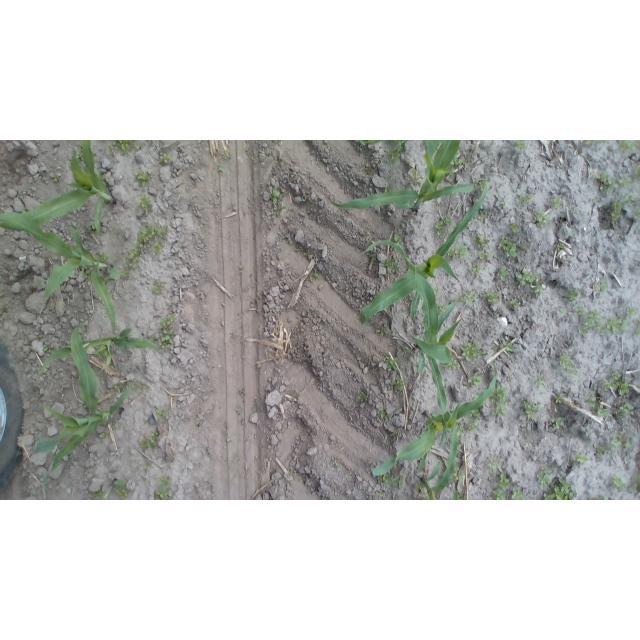Maize: (361, 236, 461, 450), (356, 178, 488, 331), (34, 325, 133, 487), (368, 361, 499, 481), (0, 209, 120, 332), (329, 141, 477, 214), (8, 140, 116, 238), (39, 321, 163, 383), (414, 425, 461, 499), (81, 477, 124, 500)
Weeds: (135, 223, 169, 259), (541, 480, 576, 500), (517, 270, 547, 293), (160, 314, 178, 350), (604, 374, 631, 396), (579, 310, 601, 336), (494, 386, 511, 417), (606, 316, 631, 336), (498, 236, 519, 259), (597, 171, 617, 195), (460, 342, 484, 362), (379, 473, 404, 492), (522, 401, 541, 422), (558, 353, 577, 374), (435, 216, 454, 236), (140, 431, 159, 450), (113, 141, 135, 156), (610, 201, 623, 226), (536, 469, 553, 488), (506, 295, 522, 314), (269, 188, 284, 208), (593, 277, 607, 298), (616, 400, 634, 416), (273, 206, 295, 219), (496, 473, 511, 492), (484, 290, 501, 306), (126, 249, 140, 268), (447, 246, 469, 258), (113, 488, 133, 501), (382, 257, 398, 273), (383, 355, 400, 370), (386, 141, 409, 152), (135, 171, 152, 185), (383, 172, 394, 193), (629, 476, 640, 497), (467, 372, 482, 387), (534, 212, 550, 226), (496, 266, 510, 282), (138, 196, 152, 212), (106, 224, 123, 237), (618, 140, 640, 150), (385, 429, 400, 443), (387, 149, 402, 163), (157, 476, 173, 489), (593, 444, 609, 457), (612, 474, 625, 490), (620, 432, 633, 448), (151, 280, 165, 294), (567, 287, 581, 301), (409, 169, 423, 183), (488, 458, 501, 473), (154, 489, 173, 499), (517, 193, 532, 205), (475, 234, 490, 246), (572, 453, 588, 464), (597, 402, 608, 418), (510, 489, 526, 500), (360, 163, 373, 176), (552, 417, 565, 430), (296, 245, 309, 258), (477, 250, 491, 262), (533, 374, 545, 388), (633, 163, 640, 186), (87, 219, 97, 235), (514, 140, 527, 152), (462, 292, 475, 304), (592, 197, 606, 208), (287, 465, 298, 479), (620, 174, 631, 188), (451, 357, 461, 372), (587, 392, 597, 407), (470, 409, 482, 421), (156, 407, 168, 419), (624, 194, 636, 206), (574, 305, 587, 316), (394, 231, 405, 244), (247, 151, 258, 164), (233, 403, 244, 416), (466, 423, 479, 434), (160, 153, 171, 166), (290, 389, 300, 403), (82, 266, 92, 280), (570, 204, 579, 219), (304, 310, 316, 321), (452, 157, 463, 169), (503, 341, 514, 353), (490, 492, 506, 500), (90, 491, 106, 499), (626, 305, 637, 316), (610, 437, 621, 448), (100, 429, 108, 444), (357, 390, 367, 402), (379, 409, 389, 421), (394, 379, 404, 391), (331, 456, 341, 468), (550, 197, 562, 207), (272, 140, 285, 149), (142, 459, 151, 472), (454, 469, 463, 482), (478, 211, 488, 222), (309, 271, 320, 281), (471, 265, 481, 276), (497, 198, 509, 207), (106, 144, 115, 156), (132, 381, 144, 390), (556, 305, 566, 315), (237, 415, 247, 425), (401, 345, 411, 355), (238, 387, 248, 397), (510, 222, 520, 232), (478, 179, 487, 190), (98, 253, 109, 262), (436, 301, 444, 313), (82, 323, 90, 335), (434, 287, 443, 297), (223, 149, 232, 159), (454, 489, 463, 499), (554, 395, 564, 404), (557, 241, 566, 251), (121, 268, 130, 278), (132, 463, 140, 474), (633, 207, 640, 219), (376, 491, 388, 498), (301, 194, 310, 203), (114, 382, 123, 391), (378, 328, 387, 337), (42, 344, 51, 353), (52, 175, 60, 185), (134, 141, 142, 151), (354, 140, 367, 146), (0, 303, 6, 316), (593, 140, 612, 144), (370, 254, 378, 263), (217, 164, 223, 175), (635, 325, 640, 338), (143, 140, 156, 145), (288, 169, 296, 177), (415, 483, 423, 491), (231, 332, 238, 341), (248, 284, 257, 290), (489, 141, 496, 148), (584, 140, 592, 146), (225, 436, 231, 444), (599, 496, 607, 501), (585, 496, 593, 501)
